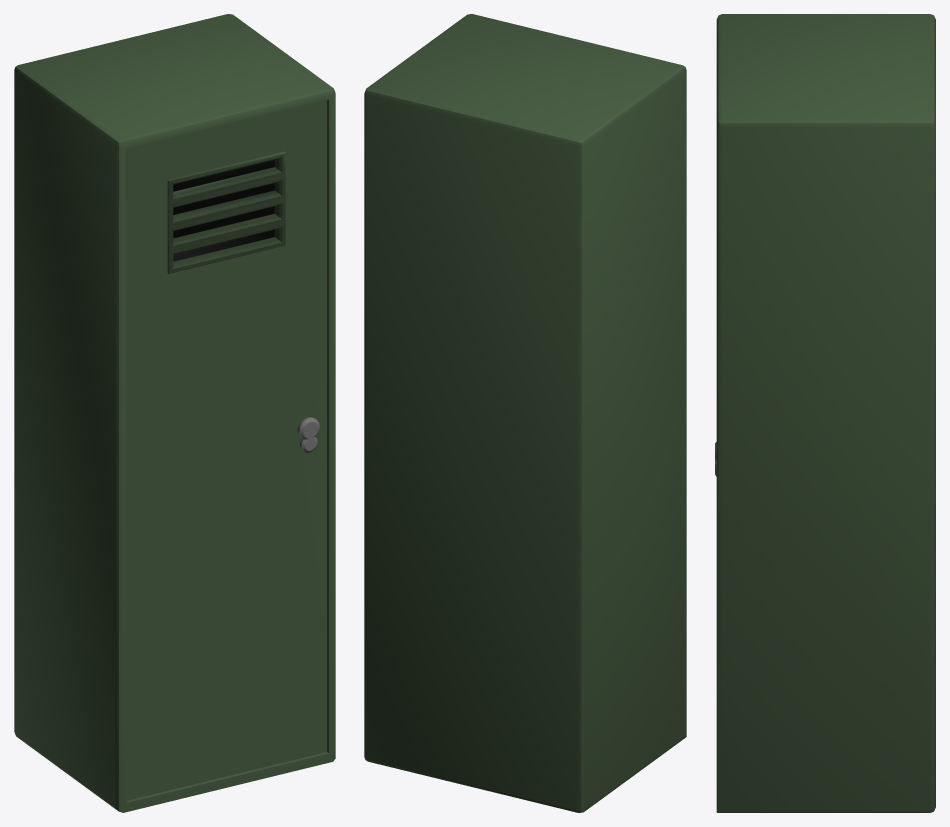
File: Locker_Clean.fbx
3 views of the same model, side by side, from view 1: azimuth 30°, elevation 25°; view 2: azimuth 150°, elevation 25°; view 3: azimuth 270°, elevation 25° (orthographic). The views are drawn at different scales.
Visible parts, largest first — view 1: Cube; view 2: Cube; view 3: Cube.
Boxes of the visible parts, x1,y1,x2,y2 form: Cube: [14, 14, 335, 812]; Cube: [364, 14, 686, 812]; Cube: [715, 14, 935, 812].
Bounding box in the file's own units: 239 × 697 × 202.
